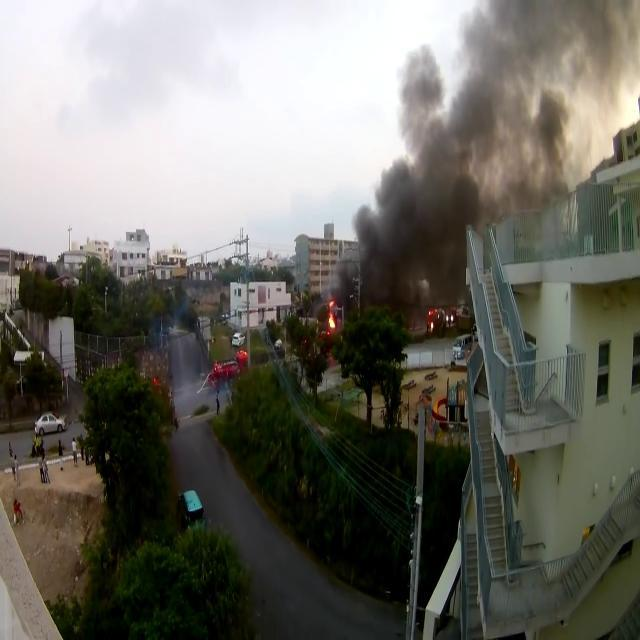Fire: (327, 300, 337, 328)
Smoke: (314, 11, 636, 321)
